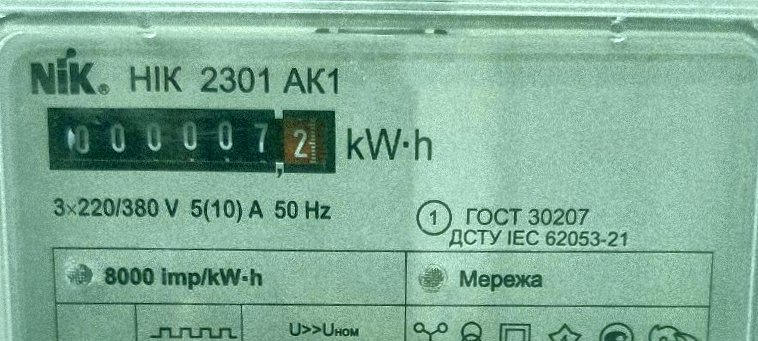0: (141, 117, 165, 156), (213, 117, 235, 153), (179, 118, 200, 155), (70, 121, 92, 156), (107, 119, 127, 155)
2: (289, 125, 310, 162)
7: (249, 118, 271, 157)
screen: (39, 97, 345, 183)
